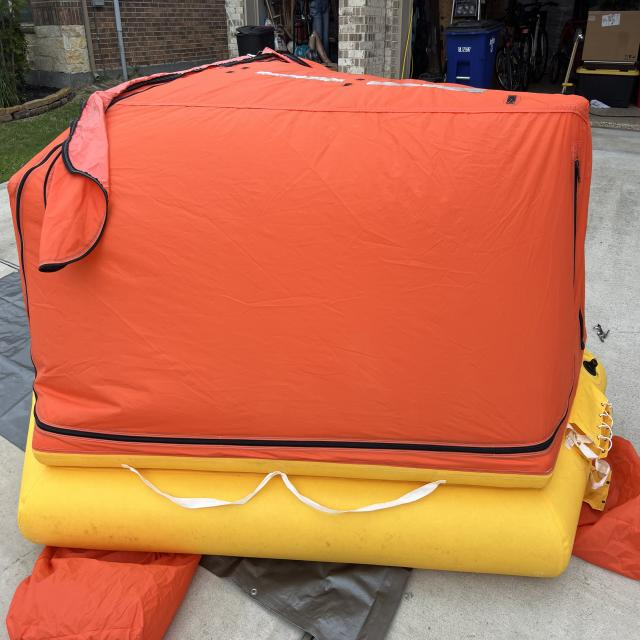Multi-person_life_raft: (5, 45, 640, 639)
